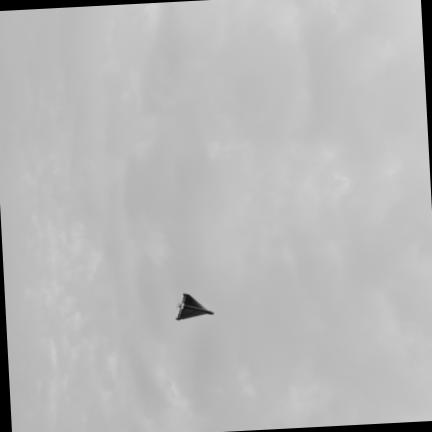Shahed: (176, 294, 212, 319)
